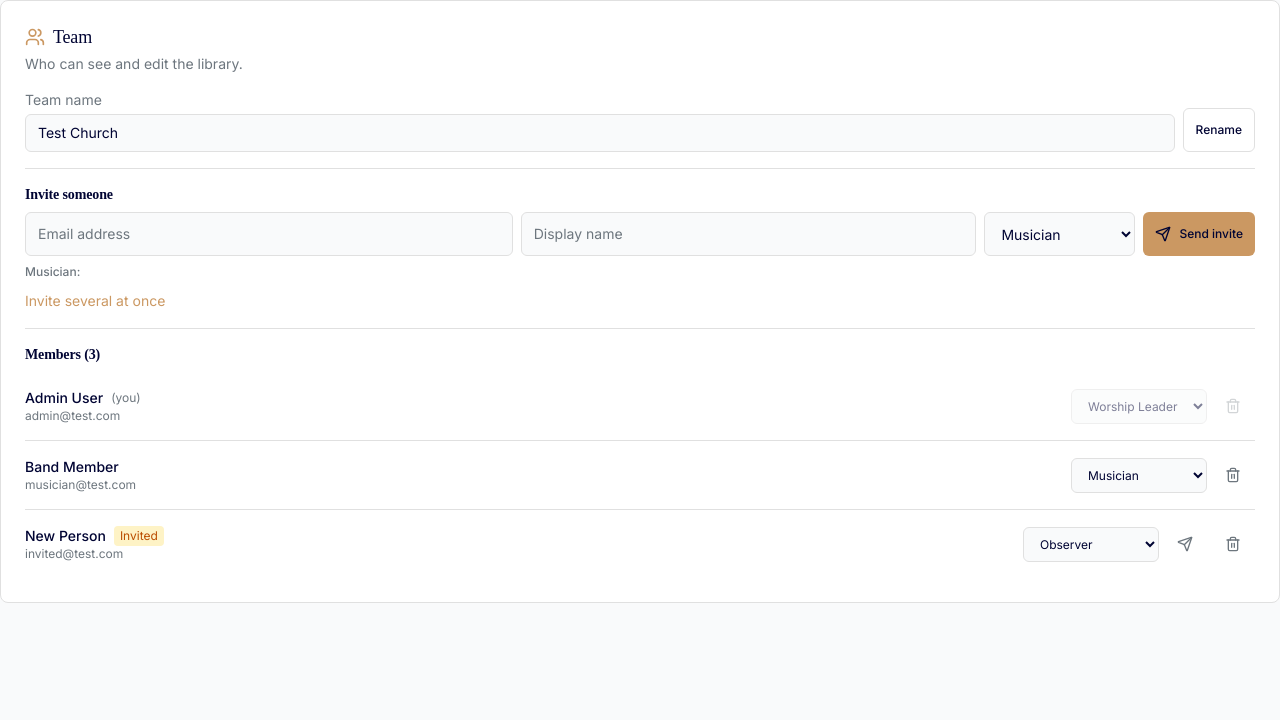
Test: TeamSection › resends an invite to someone who has not set a password
Expected: the text "Band Member" is shown, [25,457,119,477]
Click the button named "Resend invite to New Person".
click(1185, 544)  # box [1163,522,1207,566]
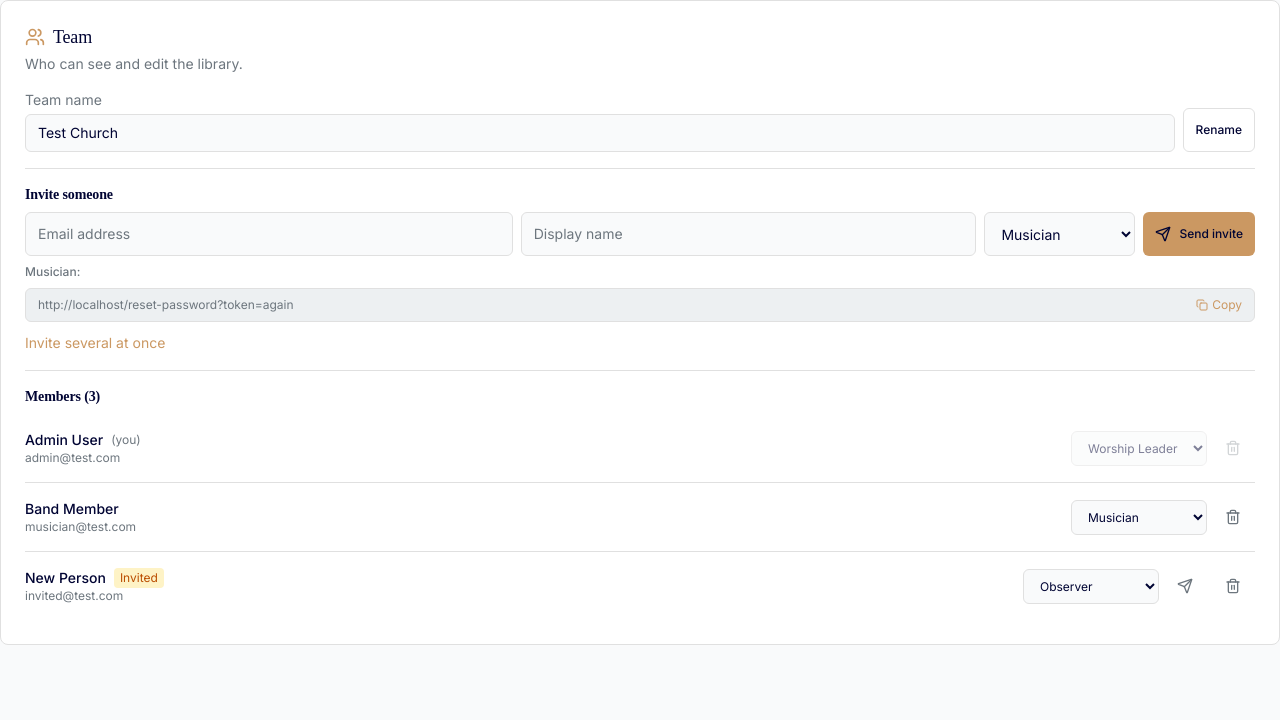
Now the text "http://localhost/reset-password?token=again" is shown, box [38,297,294,312]
